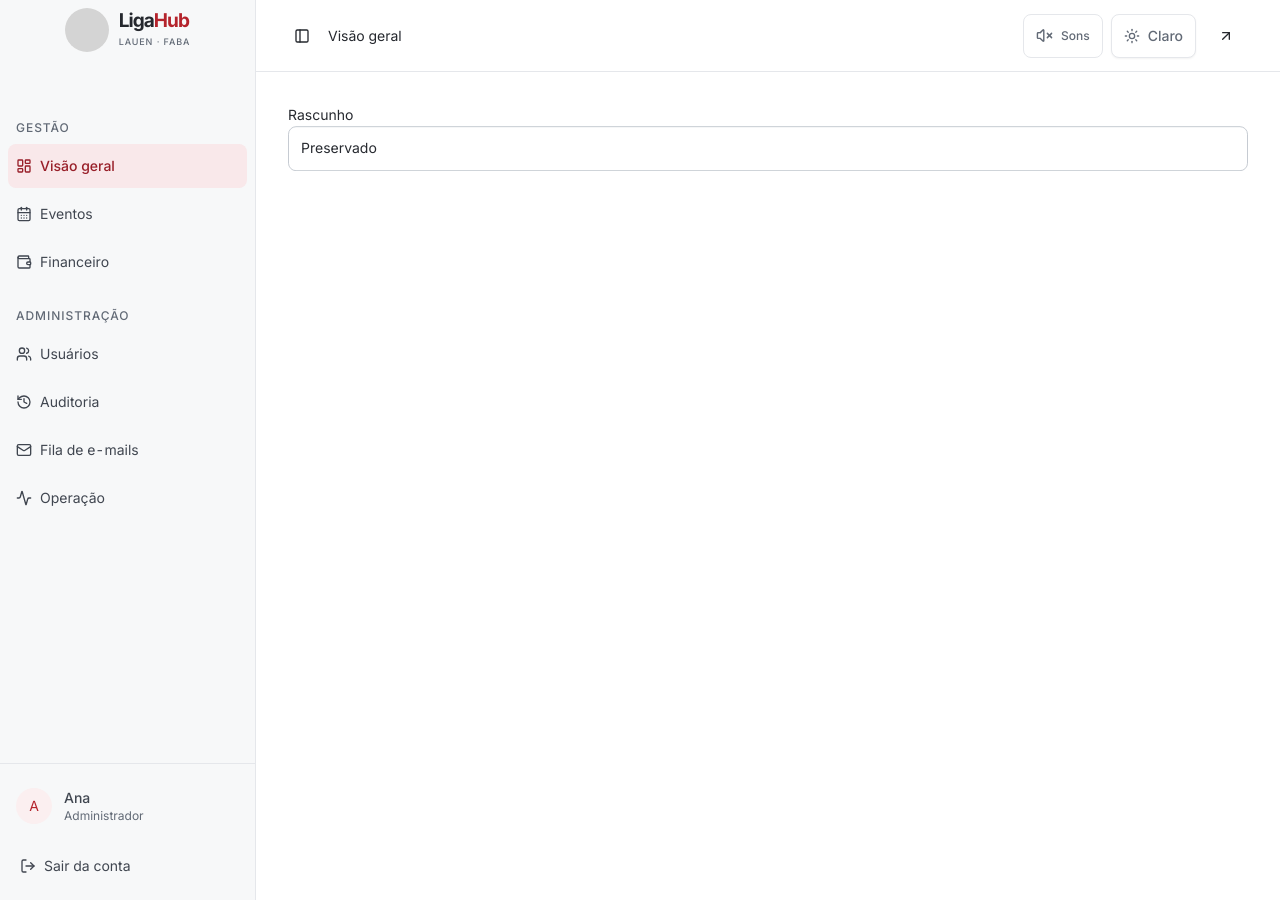
Test: recolhe a sidebar mantendo nomes, permissões e conteúdo
The width and height of the screenshot is (1280, 900).
Check: the link "Usuários" is shown, box [16,345,98,362]
Click the button named "Recolher menu".
click(302, 36)  # box [288,22,316,50]
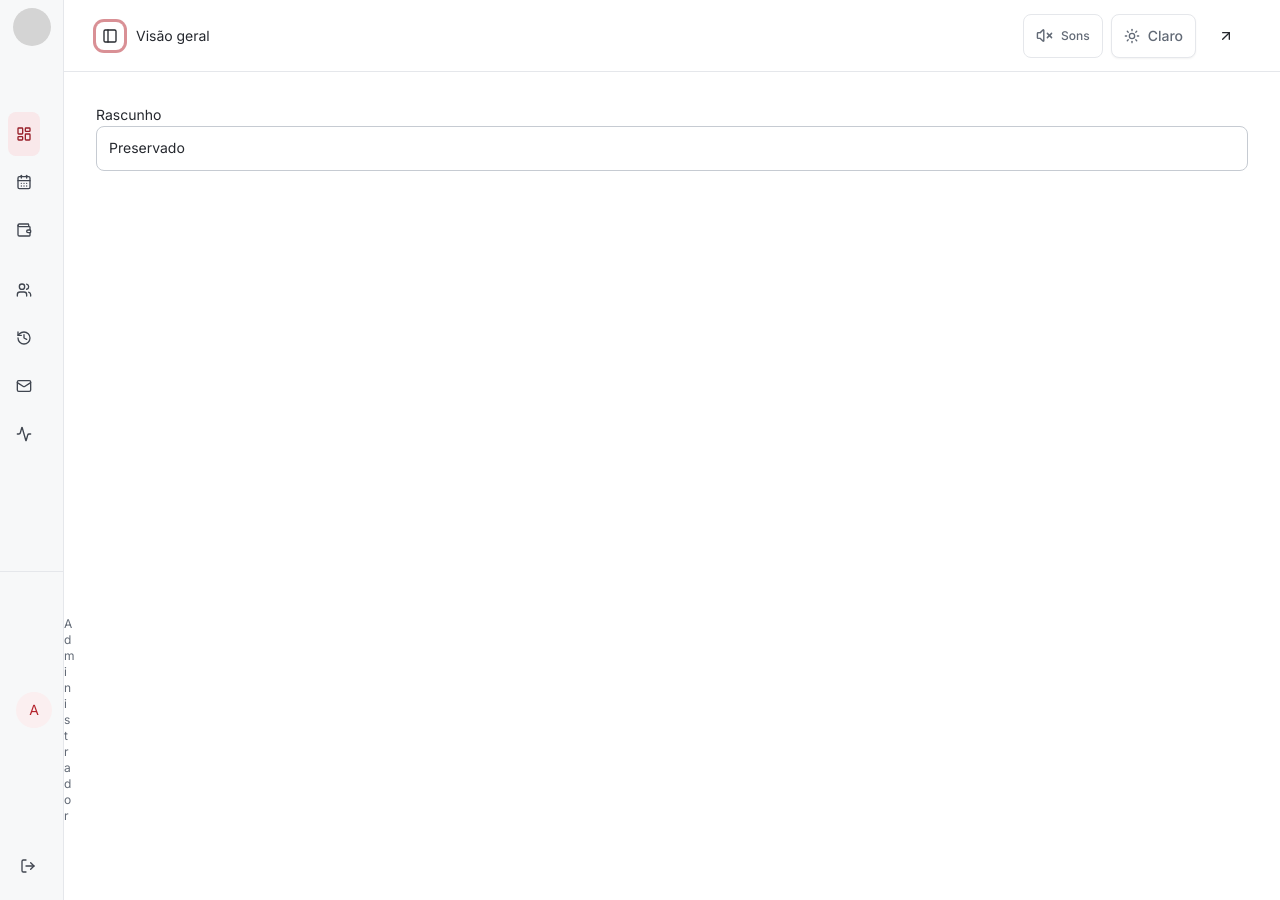
Check: the link named "Eventos" is shown, box [16,173,63,190]
Check: the button named "Expandir menu" is shown, box [96,22,124,50]
